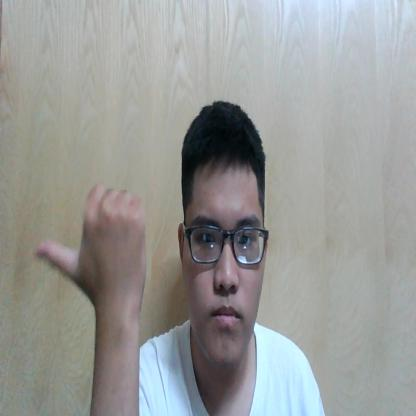right: (35, 183, 146, 302)
